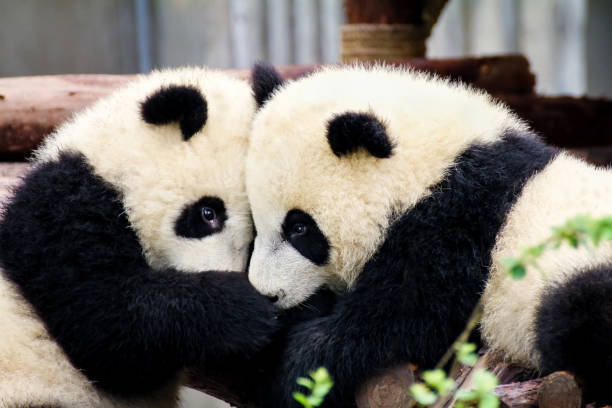panda: (231, 39, 565, 311)
